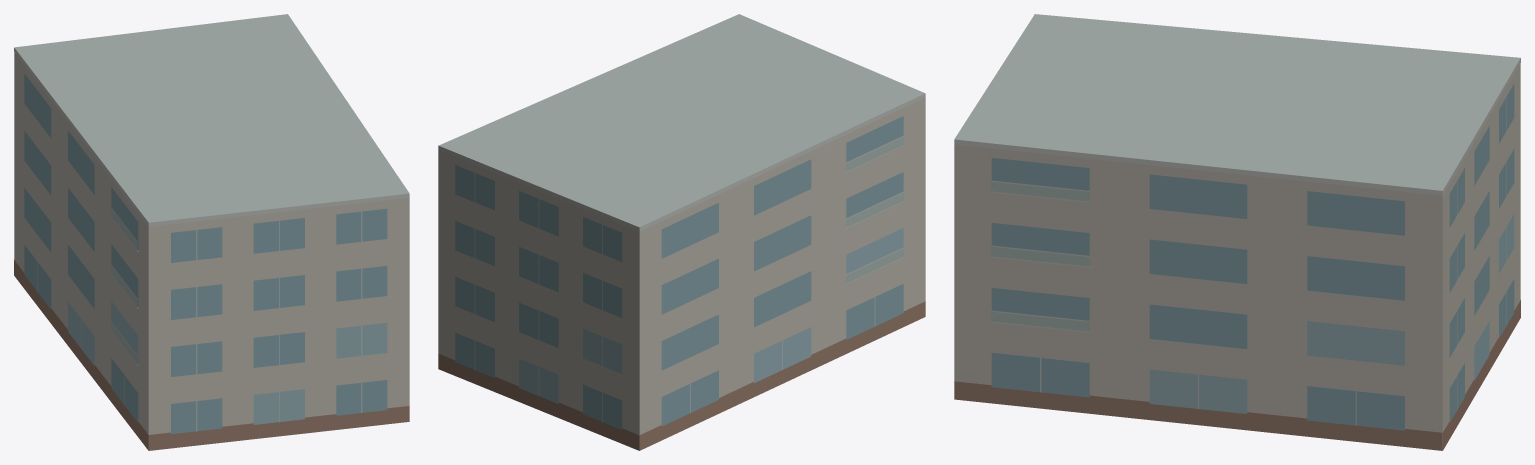
Rendered from survey-upis-32968057.glb.
The picture shows the model from 3 angles, left to right: view 1: azimuth 30°, elevation 25°; view 2: azimuth 150°, elevation 25°; view 3: azimuth 270°, elevation 25°; orthographic projection. The views are drawn at different scales.
Visible parts, largest first — view 1: survey-upis-32968057.tmp; view 2: survey-upis-32968057.tmp; view 3: survey-upis-32968057.tmp.
Boxes of the visible parts, bbox=[...] form: survey-upis-32968057.tmp: bbox=[14, 14, 409, 450]; survey-upis-32968057.tmp: bbox=[438, 14, 925, 450]; survey-upis-32968057.tmp: bbox=[954, 14, 1520, 450].
Bounding box in the file's own units: 18.69 × 12.8 × 25.29.
